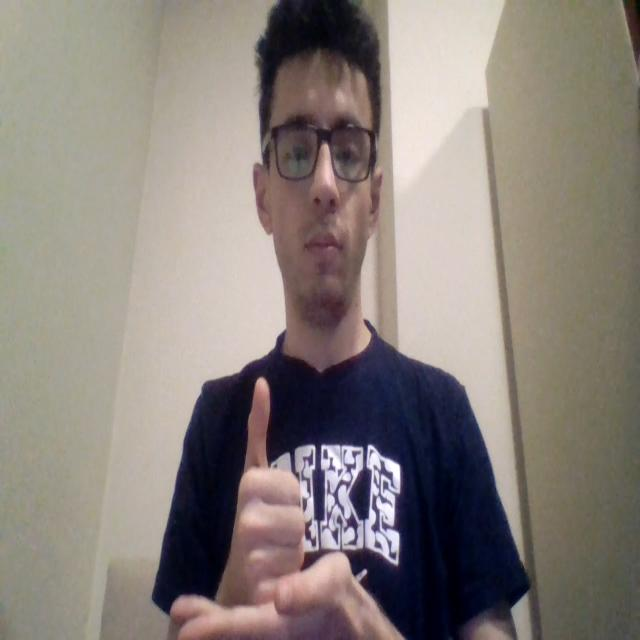help: (168, 376, 357, 640)
